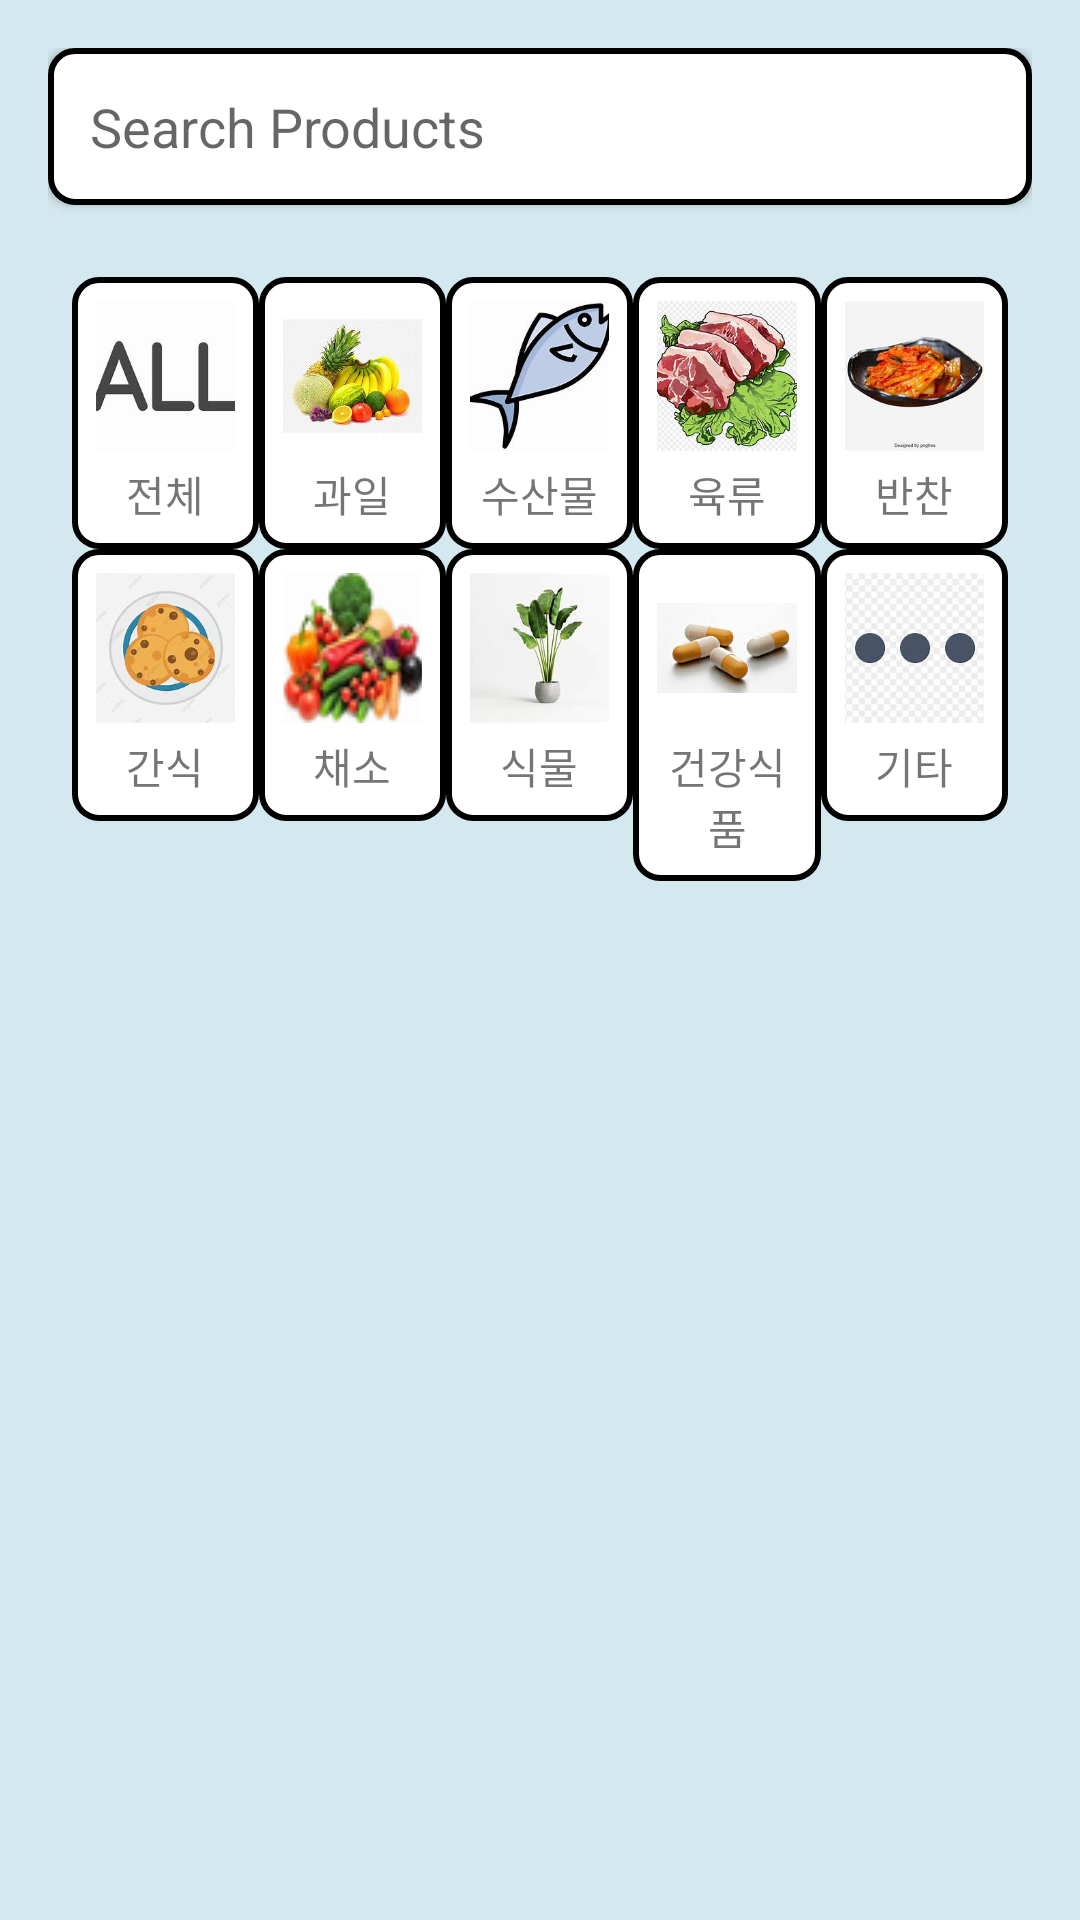

Where to tap for icons on this 1080 × 1920 app screen, as [x,y]:
medicine: [730,658]
